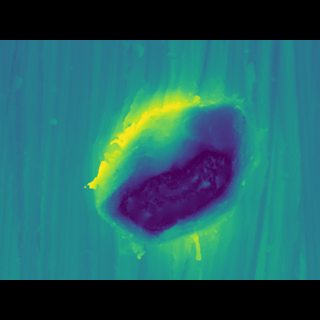Loch: (79, 96, 268, 234)
